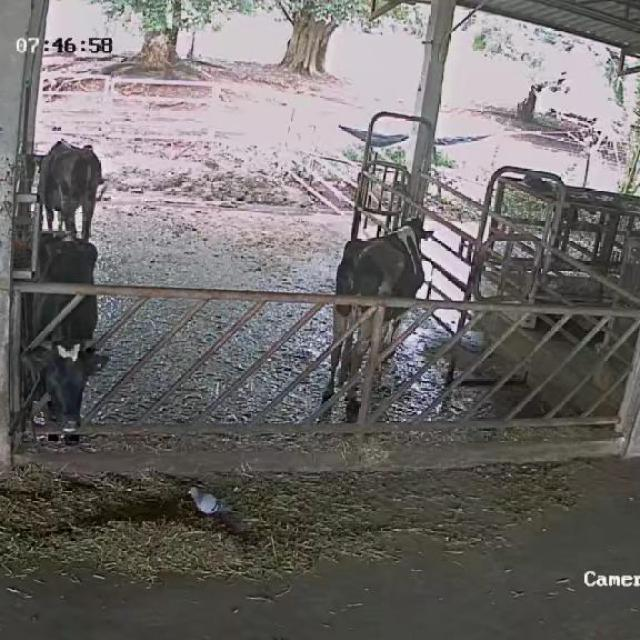feeding: (24, 231, 116, 451)
standing: (328, 213, 435, 414), (34, 138, 104, 236)
